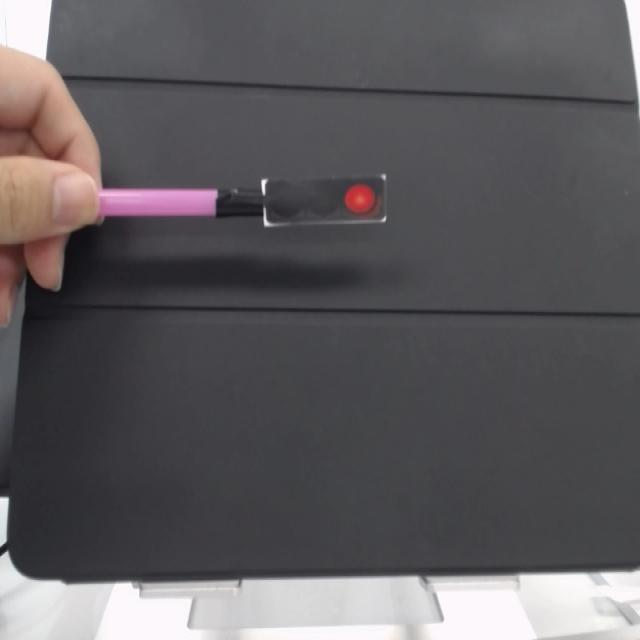traffic light: (255, 173, 391, 232)
